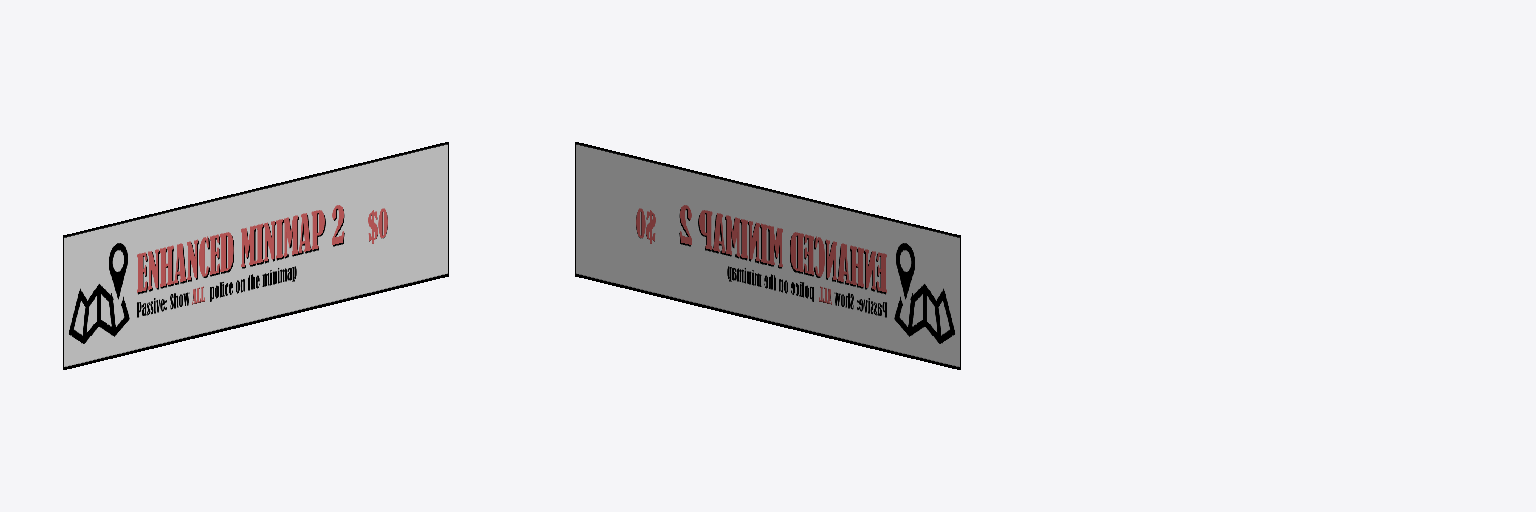
3 views of the same model, side by side, from view 1: azimuth 30°, elevation 25°; view 2: azimuth 150°, elevation 25°; view 3: azimuth 270°, elevation 25° (orthographic).
Parts seen in each view (by area): view 1: Plane.005; view 2: Plane.005; view 3: none.
Part boxes in pixels (x1,y1,x2,y2): Plane.005: (63, 142, 448, 369); Plane.005: (575, 142, 960, 369).
Size of the model in its own units: 0.9 by 0.3 by 0.
Materials: 1 (1 with a texture image).